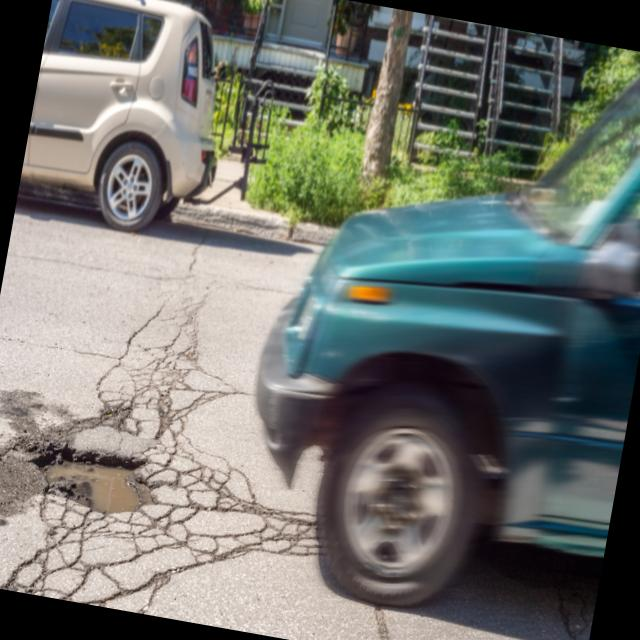Potholes: (20, 392, 178, 533)
